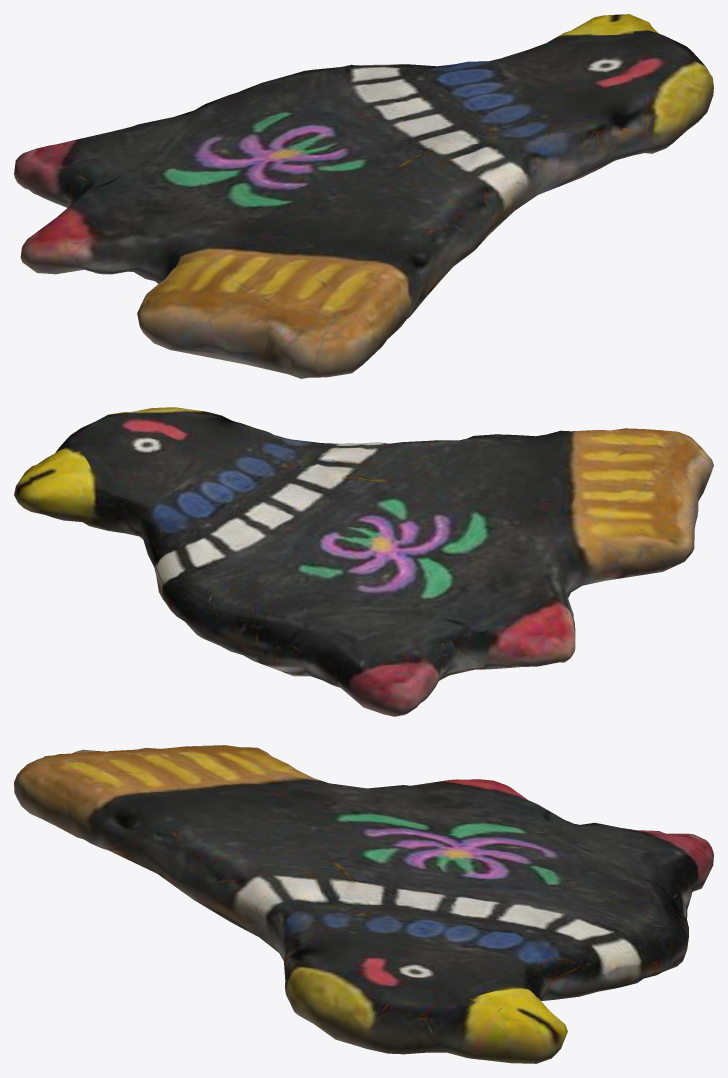
File: hall.glb
3 renders of one model, top to bottom at view 1: azimuth 30°, elevation 25°; view 2: azimuth 150°, elevation 25°; view 3: azimuth 270°, elevation 25°, orthographic. The views are drawn at different scales.
Size of the model in its own units: 0.8559 by 0.1539 by 0.7834.
1 material, 1 textured.
